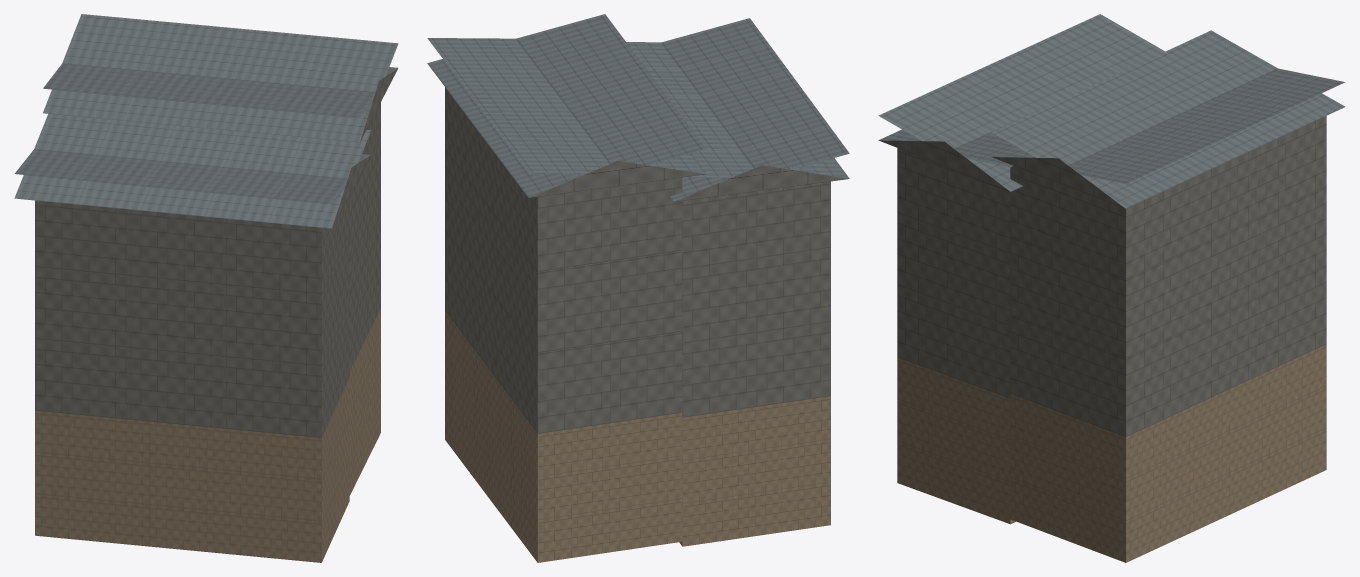
File: bld_c17_27_387.gltf
3 views of the same model, side by side, from view 1: azimuth 30°, elevation 25°; view 2: azimuth 150°, elevation 25°; view 3: azimuth 270°, elevation 25° (orthographic). The views are drawn at different scales.
Parts seen in each view (by area): view 1: bld_c17_27_387; view 2: bld_c17_27_387; view 3: bld_c17_27_387.
Part boxes in pixels (bbox=[...]): bld_c17_27_387: bbox=[14, 14, 398, 562]; bld_c17_27_387: bbox=[427, 14, 849, 562]; bld_c17_27_387: bbox=[878, 14, 1345, 562].
Size of the model in its own units: 16.93 by 15.9 by 17.17.
4 materials, 4 textured.
